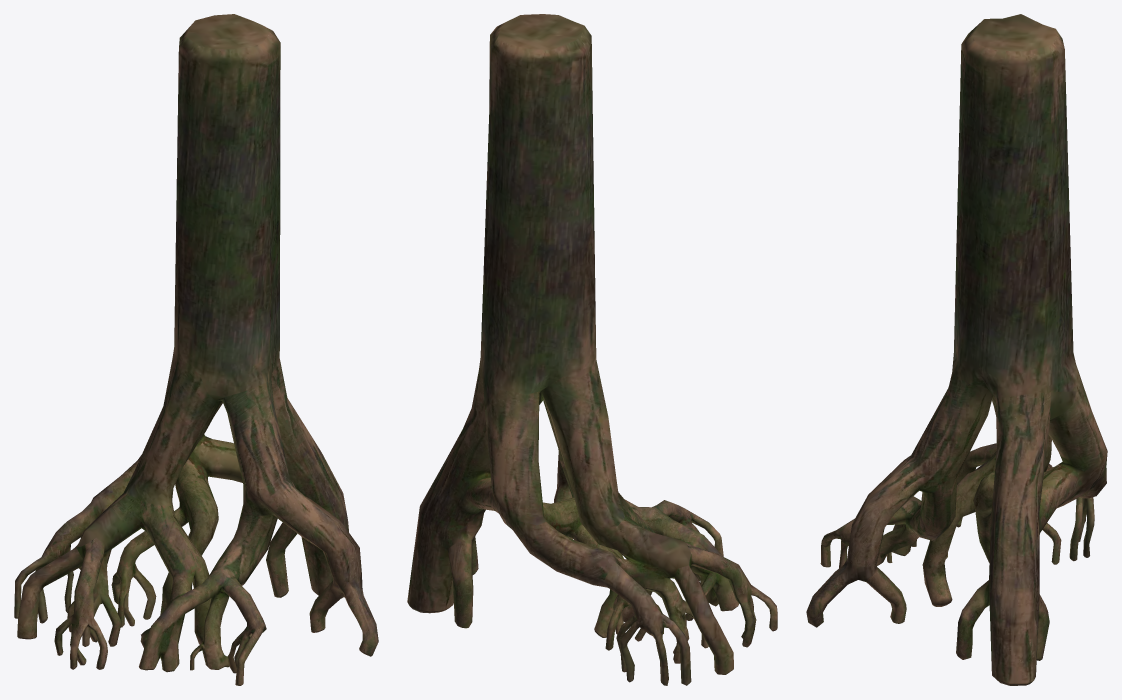
Rendered from dagoroots.glb.
3 renders of one model, left to right at view 1: azimuth 30°, elevation 25°; view 2: azimuth 150°, elevation 25°; view 3: azimuth 270°, elevation 25°, orthographic. The views are drawn at different scales.
Visible parts, largest first — view 1: tree:polySurface1_lambert1_0; view 2: tree:polySurface1_lambert1_0; view 3: tree:polySurface1_lambert1_0.
Part boxes in pixels (x1,y1,x2,y2): tree:polySurface1_lambert1_0: (14, 14, 378, 685); tree:polySurface1_lambert1_0: (407, 14, 777, 685); tree:polySurface1_lambert1_0: (806, 14, 1107, 685).
Bounding box in the file's own units: 2.86 × 5 × 2.28.
Materials: 1 (1 with a texture image).
